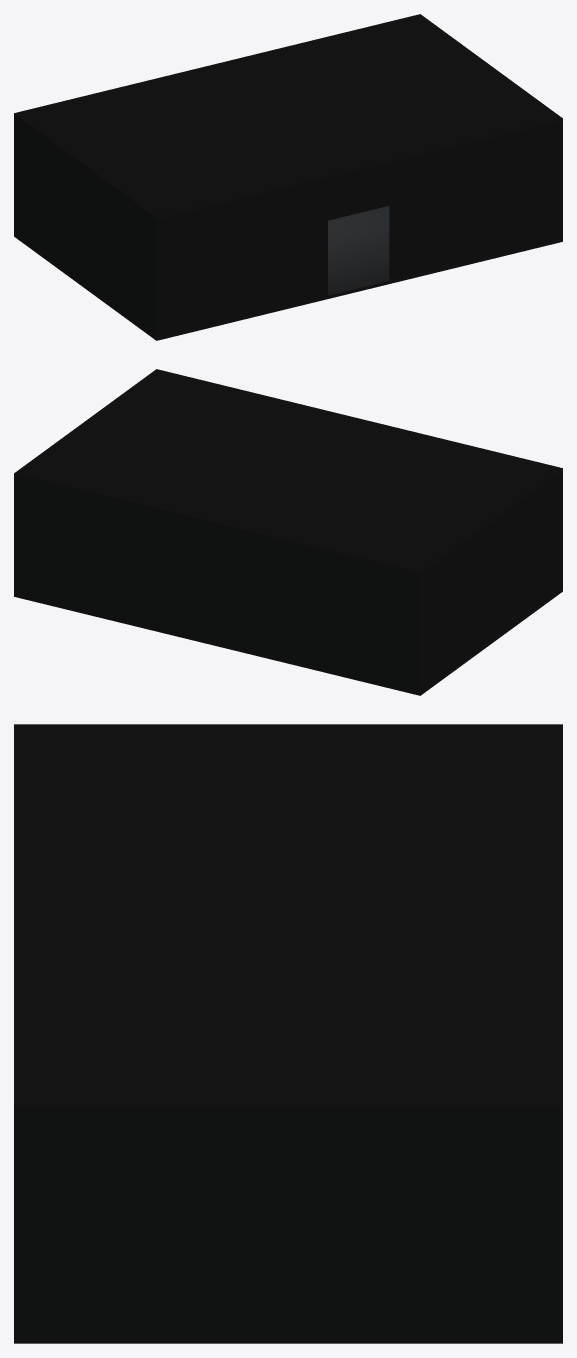
File: WT_Retail_Experience_Room.glb
3 views of the same model, one above another, from view 1: azimuth 30°, elevation 25°; view 2: azimuth 150°, elevation 25°; view 3: azimuth 270°, elevation 25° (orthographic). The views are drawn at different scales.
Visible parts, largest first — view 1: Ceiling_Shell, Wall_Rear_Right, Wall_Rear_Left, Wall_Left, Floor, Entry_Header, Wall_Right; view 2: Ceiling_Shell, Wall_Front, Wall_Left, Floor, Wall_Right; view 3: Ceiling_Shell, Wall_Right, Floor.
Boxes of the visible parts, x1,y1,x2,y2 form: Ceiling_Shell: [14, 14, 562, 220]; Wall_Rear_Right: [389, 122, 558, 280]; Wall_Rear_Left: [160, 179, 327, 336]; Wall_Left: [14, 117, 160, 337]; Floor: [14, 206, 562, 340]; Entry_Header: [328, 163, 391, 220]; Wall_Right: [559, 122, 562, 239]; Ceiling_Shell: [14, 369, 562, 575]; Wall_Front: [18, 477, 416, 691]; Wall_Left: [416, 472, 562, 692]; Floor: [14, 588, 562, 695]; Wall_Right: [14, 477, 17, 594]; Ceiling_Shell: [14, 724, 562, 1112]; Wall_Right: [14, 1112, 562, 1337]; Floor: [14, 1337, 562, 1343].
Size of the model in its own units: 15.54 by 4.51 by 9.44.
Materials: 109 (42 with a texture image).
